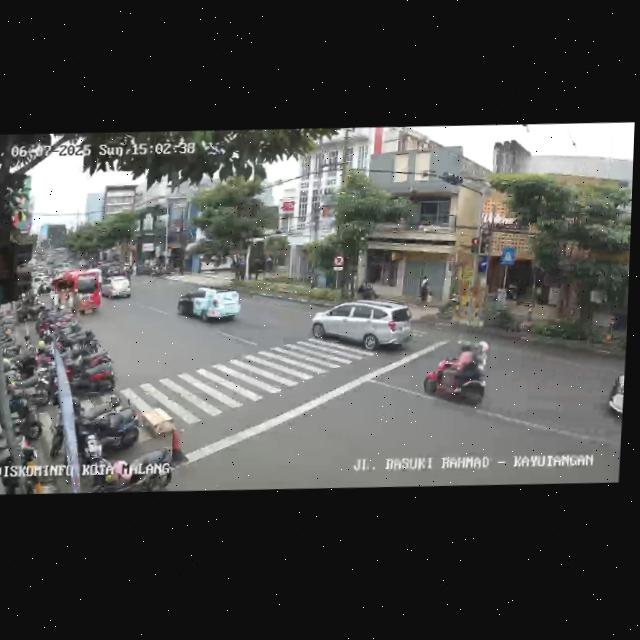car: (307, 295, 414, 361), (174, 284, 243, 327), (49, 267, 102, 318), (597, 366, 623, 437), (101, 273, 132, 302)
motorcycle: (423, 338, 492, 412)
